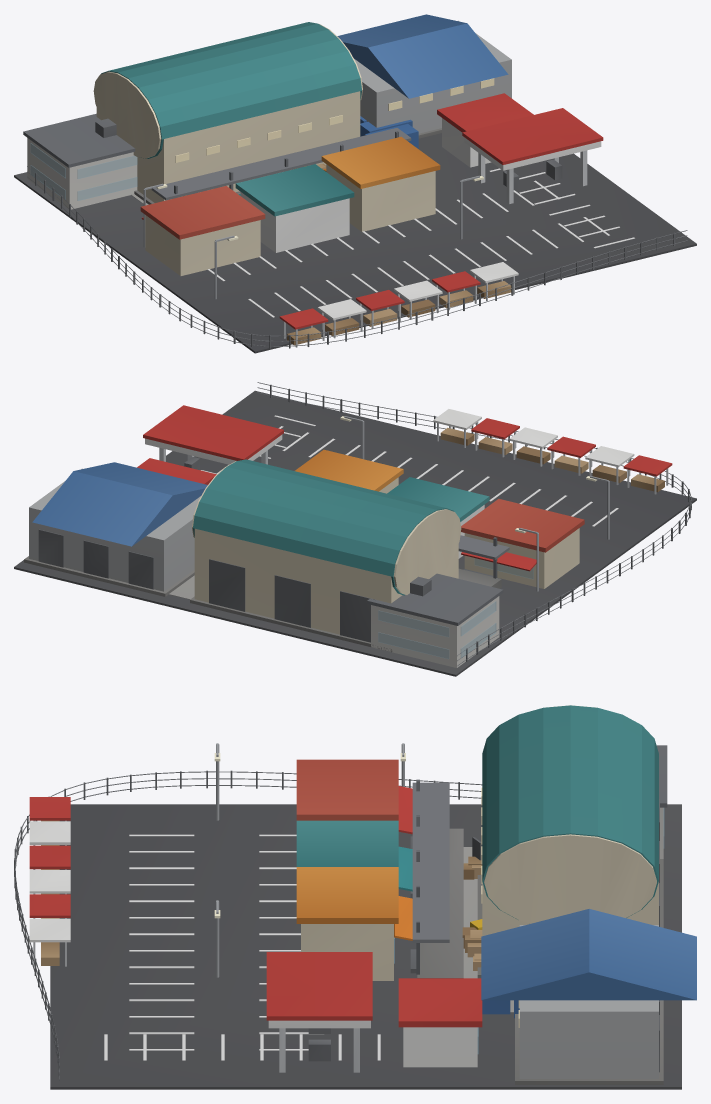
The model's file is Market_P2.fbx.
3 renders of one model, top to bottom at view 1: azimuth 30°, elevation 25°; view 2: azimuth 150°, elevation 25°; view 3: azimuth 270°, elevation 25°, orthographic. The views are drawn at different scales.
Parts seen in each view (by area): view 1: Market.Pad, Market.WH1, Market.WH2, Market.Office, Market.Shop0, Market.Shop2, Market.Shop1, Market.Stalls, Market.Fuel, Market.Fence, Market.Dock, Market.FuelShop (+2 smaller); view 2: Market.WH1, Market.Pad, Market.WH2, Market.Office, Market.Shop0, Market.Stalls, Market.Fuel, Market.Fence, Market.Shop2, Market.Shop1, Market.Dock, Market.Bays (+1 smaller); view 3: Market.Pad, Market.WH1, Market.WH2, Market.Shop2, Market.Dock, Market.Fuel, Market.FuelShop, Market.Shop0, Market.Stalls, Market.Shop1, Market.Bays, Market.Fence (+2 smaller).
Part boxes in pixels (x1,y1,x2,y2): Market.Pad: (14,133,696,353); Market.WH1: (93,22,362,204); Market.WH2: (337,14,511,138); Market.Office: (23,113,137,209); Market.Shop0: (140,186,265,275); Market.Shop2: (321,136,440,231); Market.Shop1: (235,164,354,252); Market.Stalls: (279,262,518,347); Market.Fuel: (462,108,603,204); Market.Fence: (27,166,687,348); Market.Dock: (151,128,411,200); Market.FuelShop: (437,93,533,167); Market.WH1: (190,459,461,652); Market.Pad: (14,390,696,676); Market.WH2: (24,462,207,596); Market.Office: (367,573,503,667); Market.Shop0: (461,499,584,588); Market.Stalls: (433,409,672,494); Market.Fuel: (143,405,283,469); Market.Fence: (257,382,691,666); Market.Shop2: (295,449,403,493); Market.Shop1: (387,477,489,558); Market.Dock: (458,535,509,588); Market.Bays: (201,415,618,526); Market.Pad: (50,804,681,1089); Market.WH1: (477,705,663,978); Market.WH2: (481,909,696,1084); Market.Shop2: (296,867,412,980); Market.Dock: (410,779,463,978); Market.Fuel: (266,952,372,1072); Market.FuelShop: (398,978,482,1067); Market.Shop0: (296,759,412,834); Market.Stalls: (29,797,70,966); Market.Shop1: (296,820,412,891); Market.Bays: (104,834,380,1060); Market.Fence: (14,770,482,1080).
Bounding box in the file's own units: 7627 × 1751 × 7350.
